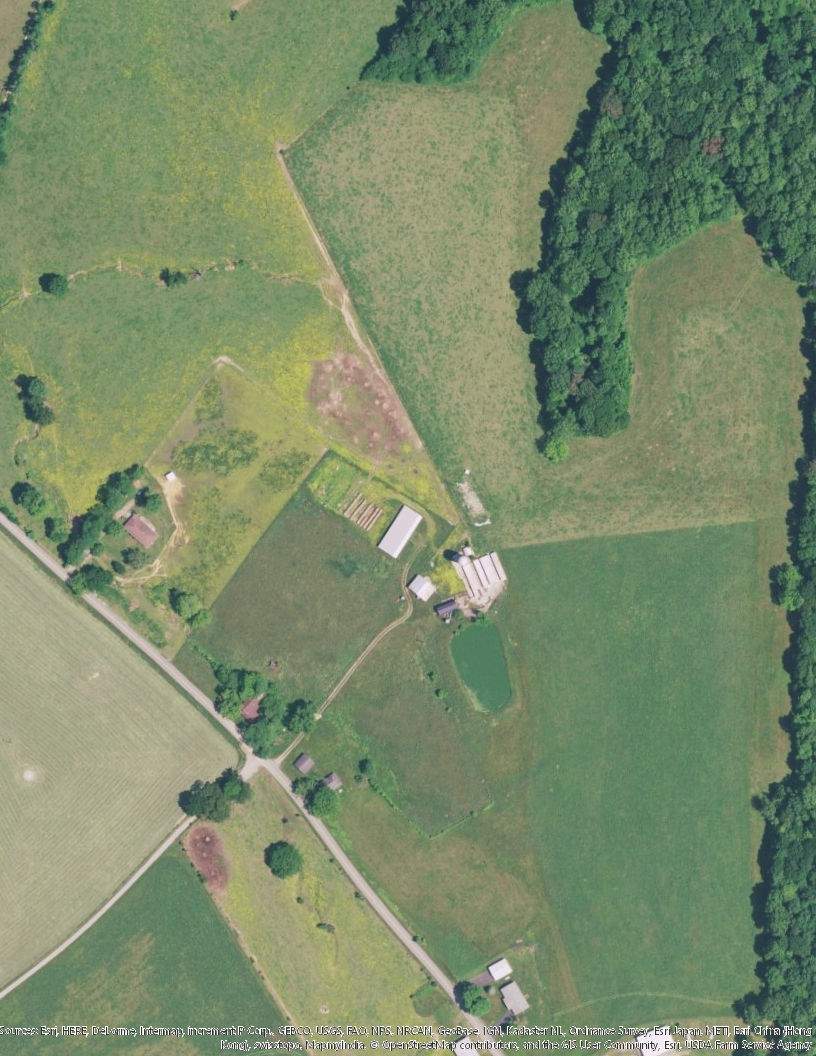cafo: (377, 501, 424, 561)
